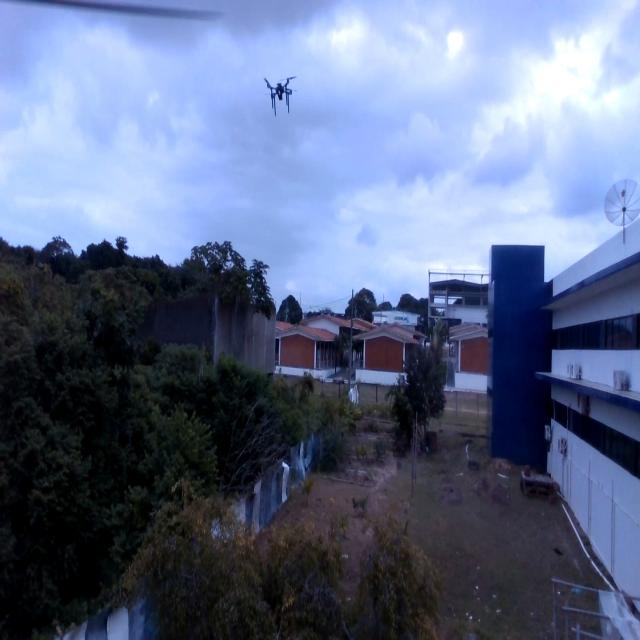-uav-: (259, 62, 304, 136)
